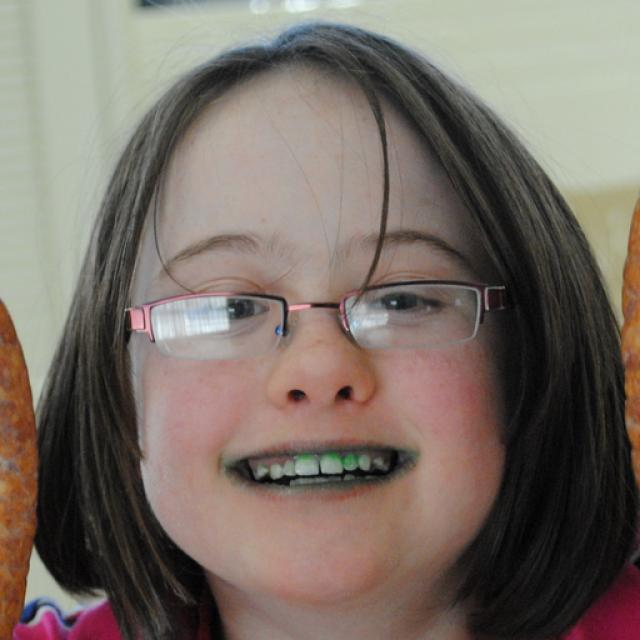happy: (130, 89, 515, 612)
